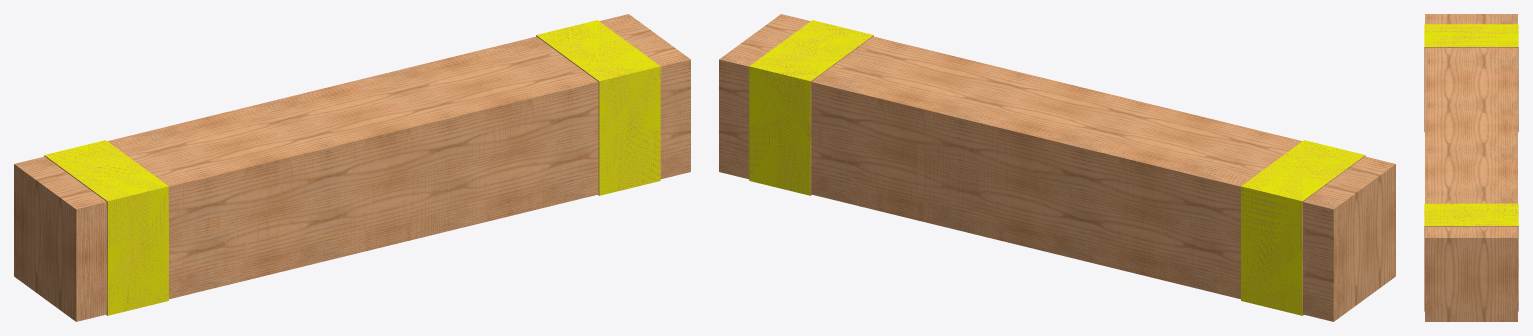
The picture shows the model from 3 angles, left to right: view 1: azimuth 30°, elevation 25°; view 2: azimuth 150°, elevation 25°; view 3: azimuth 270°, elevation 25°; orthographic projection. The views are drawn at different scales.
Parts seen in each view (by area): view 1: SketchUp (×5); view 2: SketchUp (×5); view 3: SketchUp (×7).
Part boxes in pixels (x1,y1,x2,y2): SketchUp (×5): (14,14,690,321); SketchUp (×5): (719,14,1395,321); SketchUp (×7): (1424,14,1518,321).
Size of the model in its own units: 20 by 3.56 by 3.56.
Materials: 2 (1 with a texture image).
